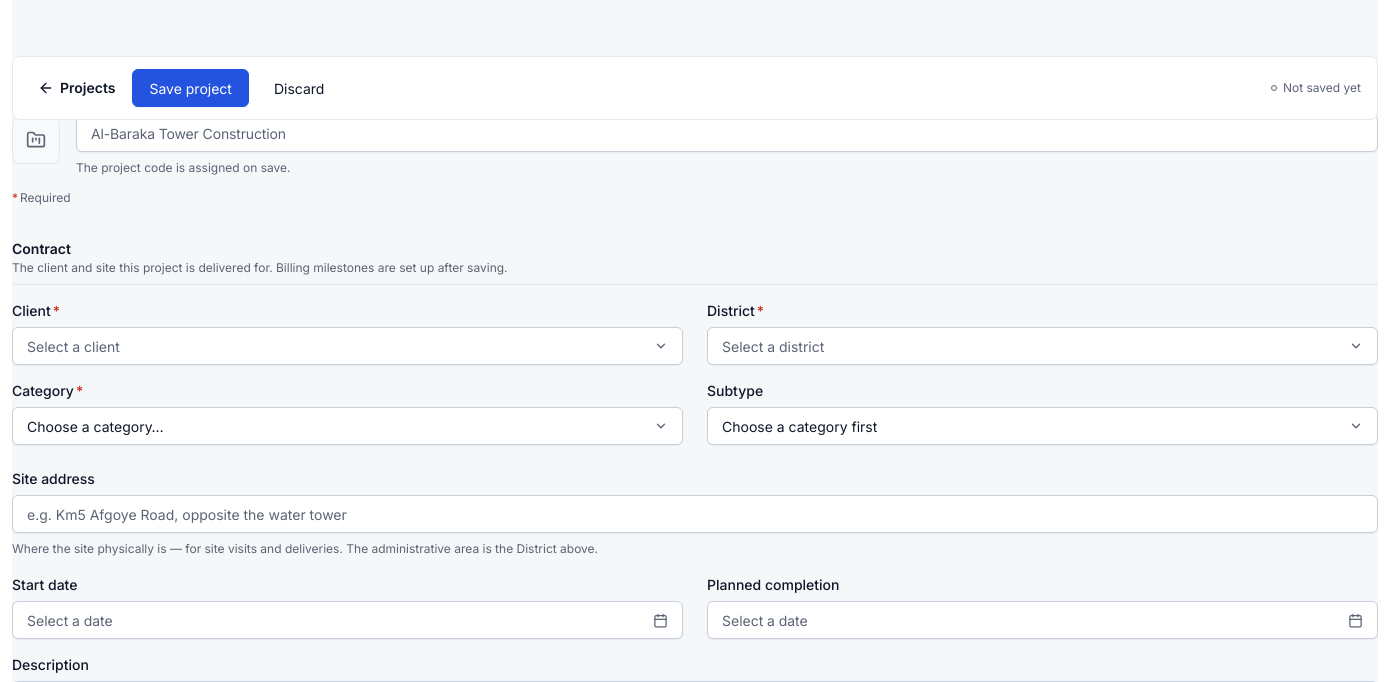
Test: ProjectForm — validation › validates required fields when the single form is submitted
Click the button "Save project" at (191, 88), box [132,69,249,107]
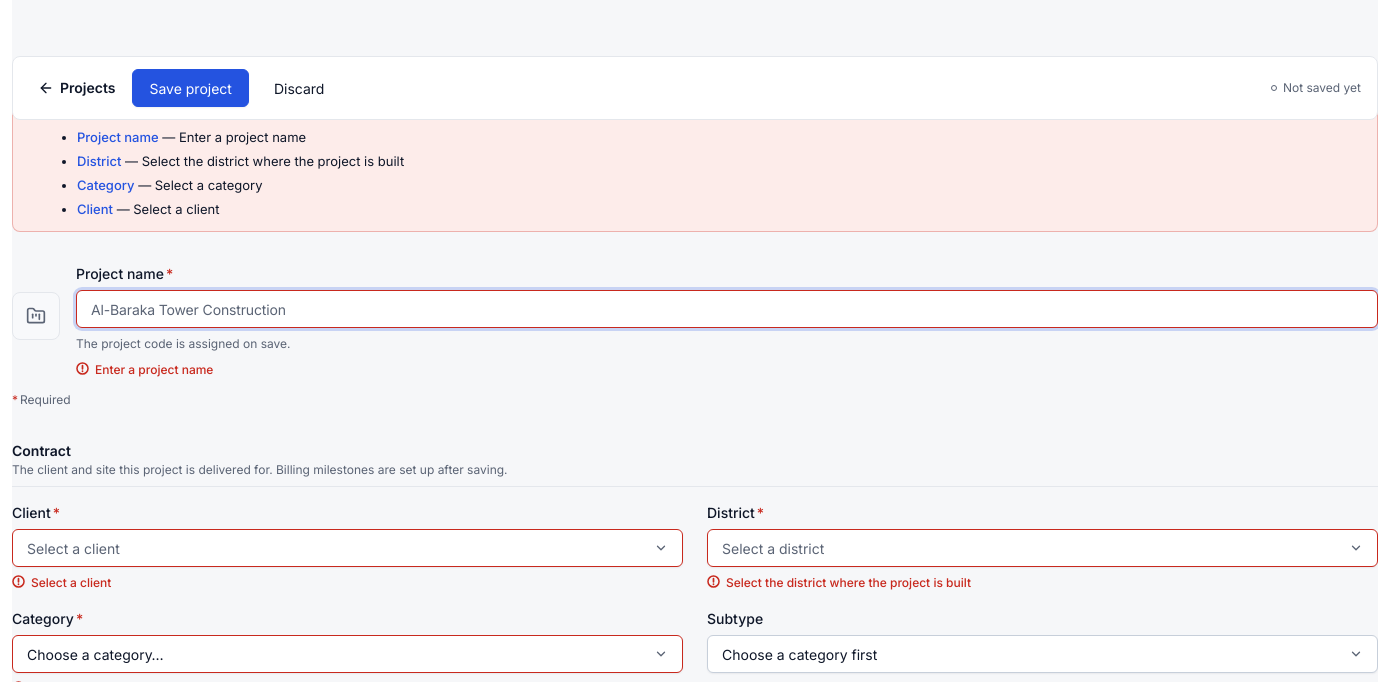
Expected: the text "Select a client" is shown, [27,538,120,558]
Expected: the text "Enter a project name" is shown, [76,362,213,377]
